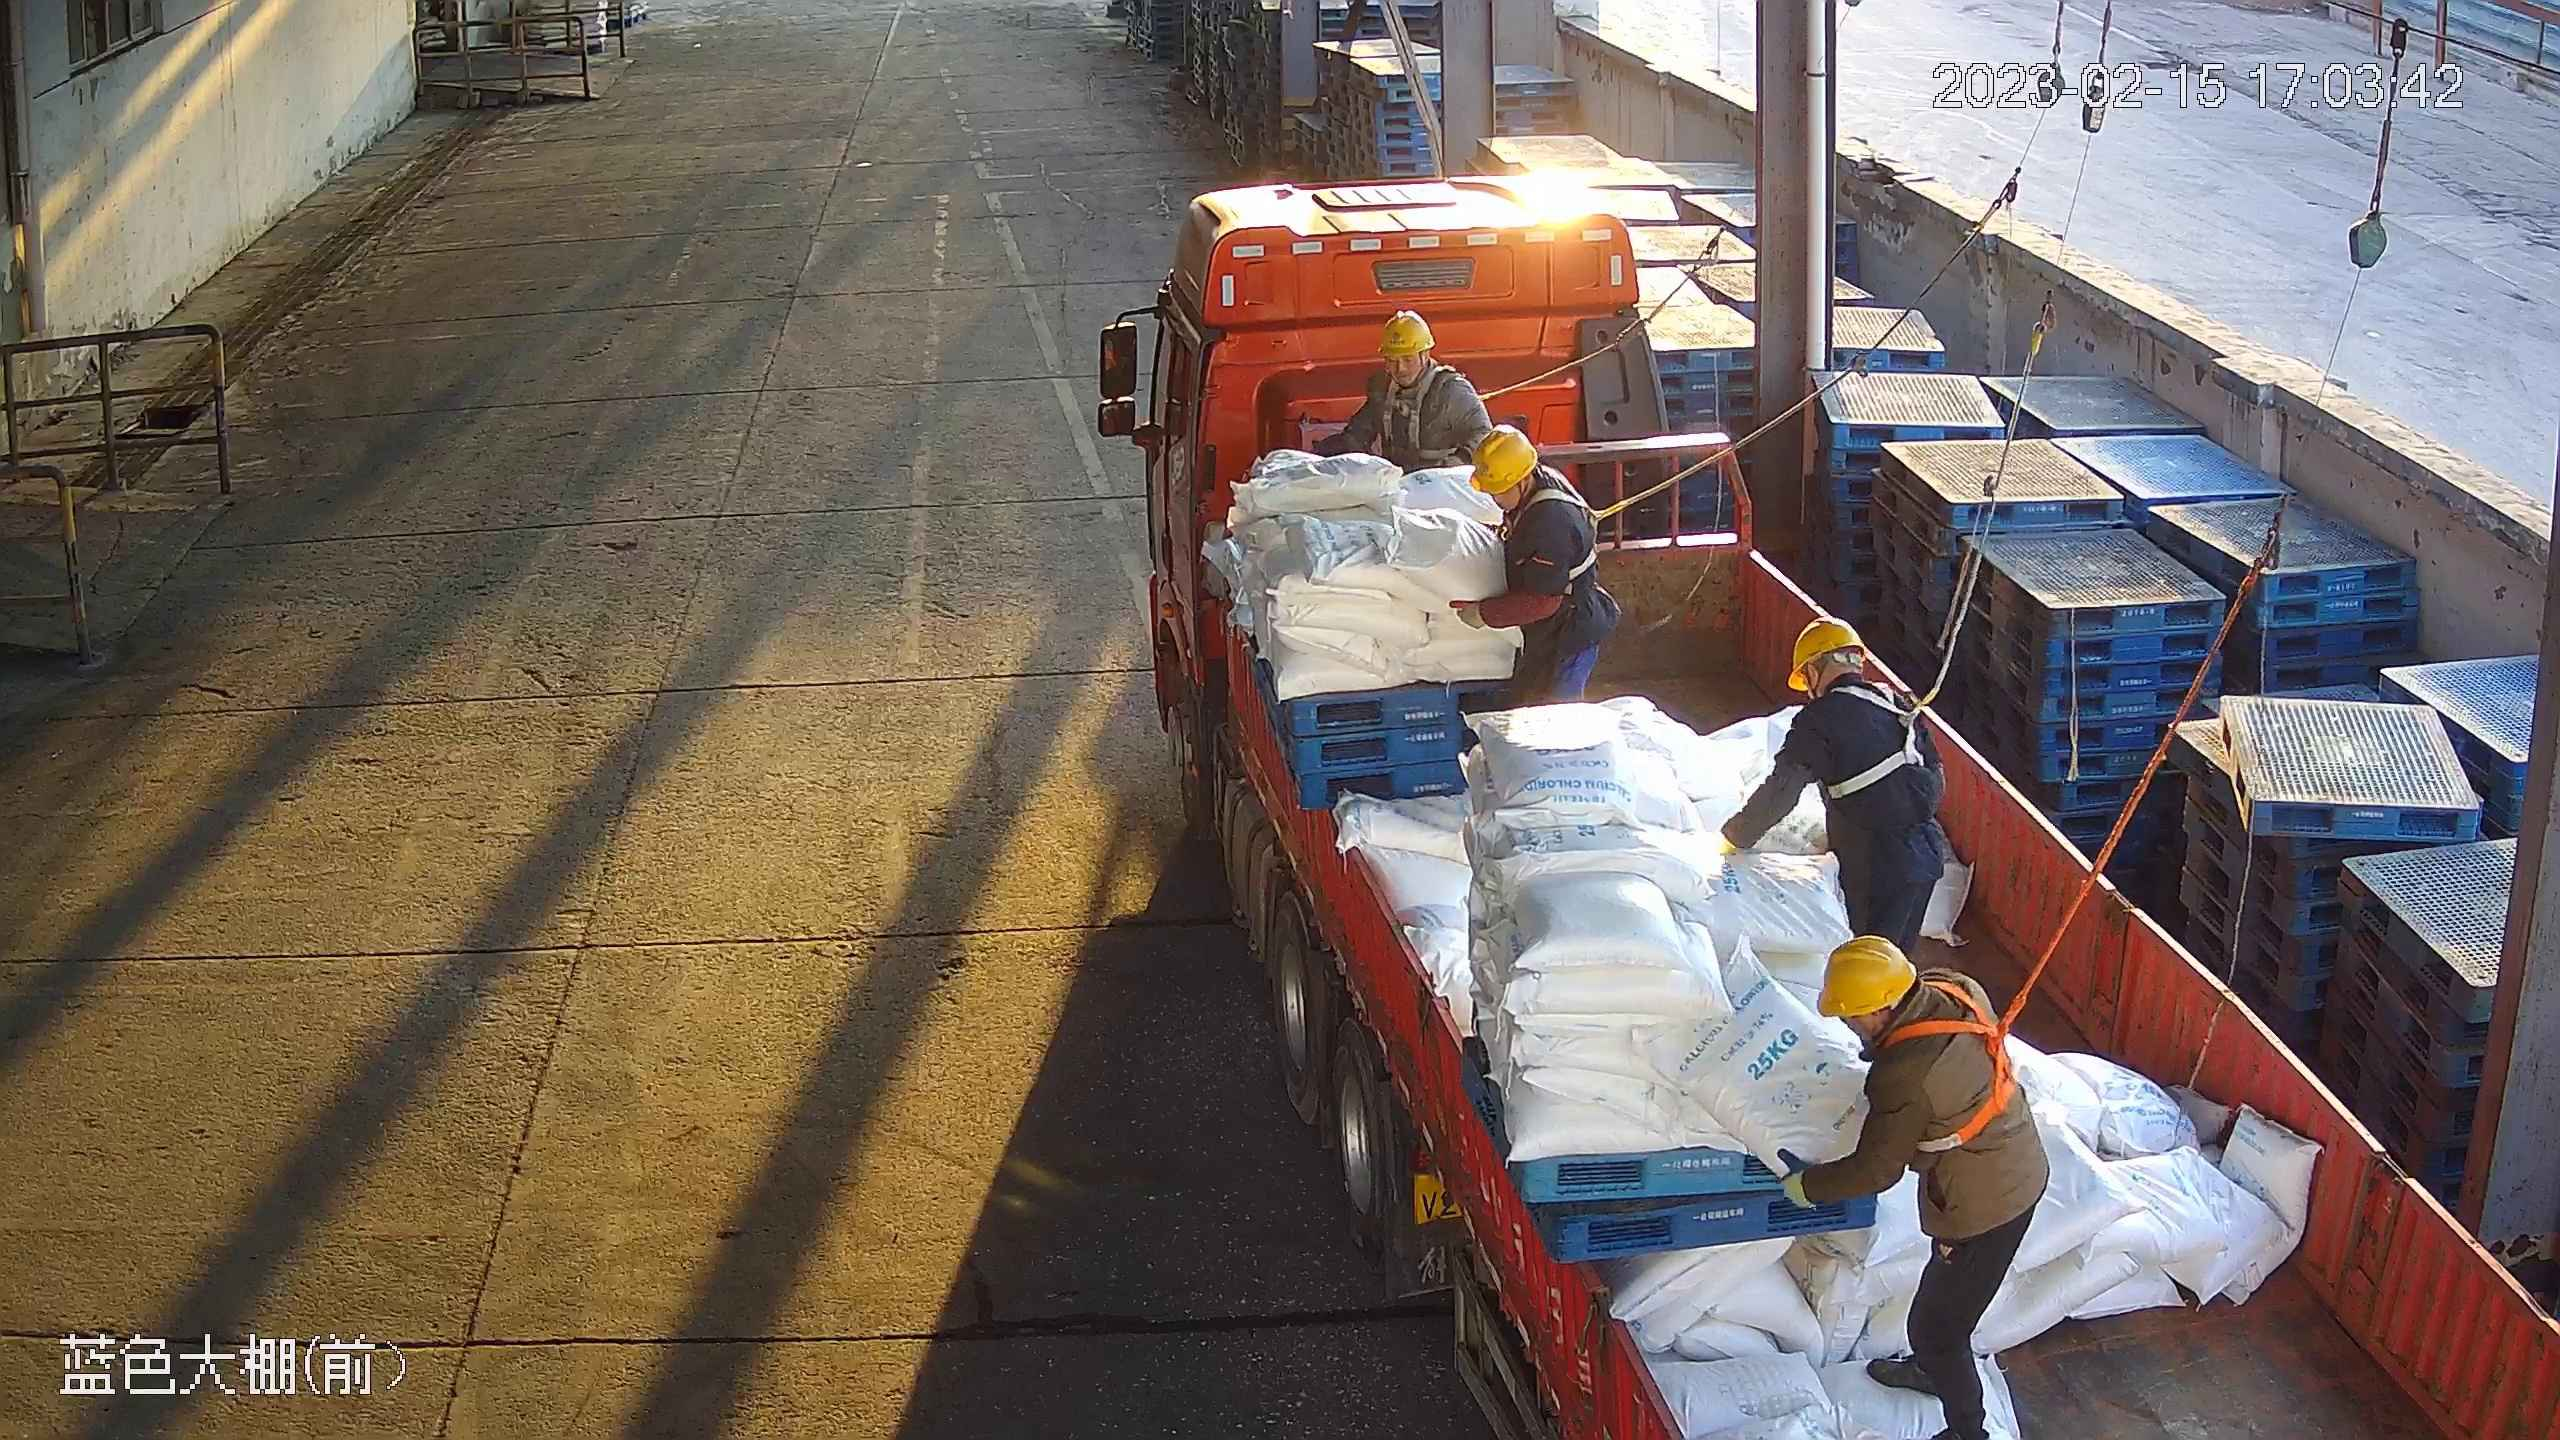belt: (1892, 997, 2032, 1153), (1827, 685, 1951, 797), (1520, 481, 1625, 585), (1370, 392, 1465, 464)
head: (1813, 943, 1995, 1085), (1777, 620, 1918, 755), (1465, 432, 1599, 555), (1363, 315, 1470, 425)
helmet: (1816, 943, 1918, 1011), (1777, 616, 1867, 678), (1470, 432, 1541, 486), (1374, 311, 1432, 355)
people: (1784, 943, 2060, 1440), (1730, 611, 1953, 950), (1451, 422, 1625, 709)
truck: (1093, 181, 2560, 1440)
